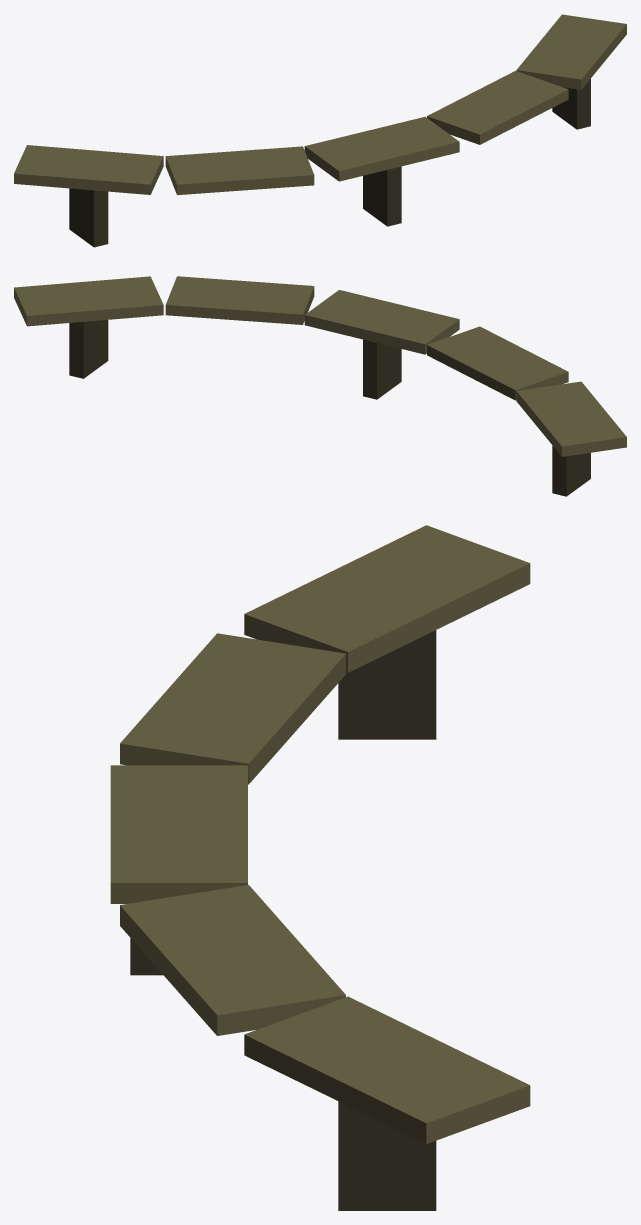
The model's file is village_bench_arc.glb.
3 renders of one model, top to bottom at view 1: azimuth 30°, elevation 25°; view 2: azimuth 150°, elevation 25°; view 3: azimuth 270°, elevation 25°, orthographic. The views are drawn at different scales.
Parts seen in each view (by area): view 1: benchArc_slab_2, benchArc_slab_1, benchArc_slab_0, benchArc_slab_3, benchArc_slab_4, benchArc_leg_0, benchArc_leg_2, benchArc_leg_4; view 2: benchArc_slab_4, benchArc_slab_3, benchArc_slab_2, benchArc_slab_1, benchArc_slab_0, benchArc_leg_4, benchArc_leg_2, benchArc_leg_0; view 3: benchArc_slab_4, benchArc_slab_0, benchArc_slab_3, benchArc_slab_1, benchArc_slab_2, benchArc_leg_4, benchArc_leg_0.
Boxes of the visible parts, <box> form: benchArc_slab_2: <box>304,116,459,181</box>; benchArc_slab_1: <box>165,146,314,195</box>; benchArc_slab_0: <box>14,145,163,194</box>; benchArc_slab_3: <box>427,71,568,144</box>; benchArc_slab_4: <box>516,14,626,89</box>; benchArc_leg_0: <box>69,188,108,247</box>; benchArc_leg_2: <box>363,166,401,226</box>; benchArc_leg_4: <box>552,79,590,129</box>; benchArc_slab_4: <box>14,276,163,326</box>; benchArc_slab_3: <box>165,276,314,324</box>; benchArc_slab_2: <box>304,290,459,354</box>; benchArc_slab_1: <box>427,326,568,400</box>; benchArc_slab_0: <box>516,381,626,456</box>; benchArc_leg_4: <box>69,320,108,378</box>; benchArc_leg_2: <box>363,339,401,399</box>; benchArc_leg_0: <box>552,445,590,496</box>; benchArc_slab_4: <box>244,996,530,1143</box>; benchArc_slab_0: <box>244,525,530,672</box>; benchArc_slab_3: <box>120,885,345,1035</box>; benchArc_slab_1: <box>120,633,345,784</box>; benchArc_slab_2: <box>110,765,247,903</box>; benchArc_leg_4: <box>338,1101,436,1210</box>; benchArc_leg_0: <box>338,630,436,739</box>.
Bounding box in the file's own units: 4.32 × 0.485 × 1.28.
